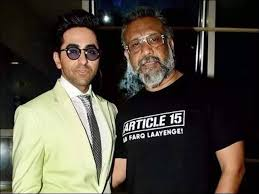Bad: (12, 8, 245, 193)
